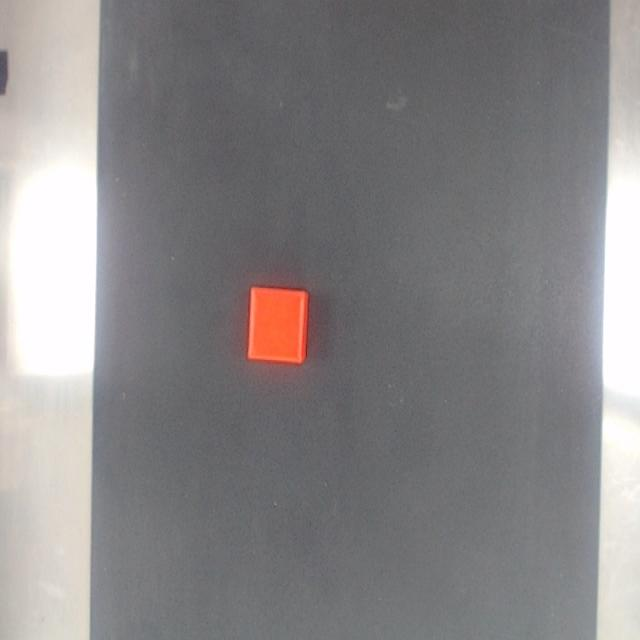Rojo: (247, 287, 308, 363)
